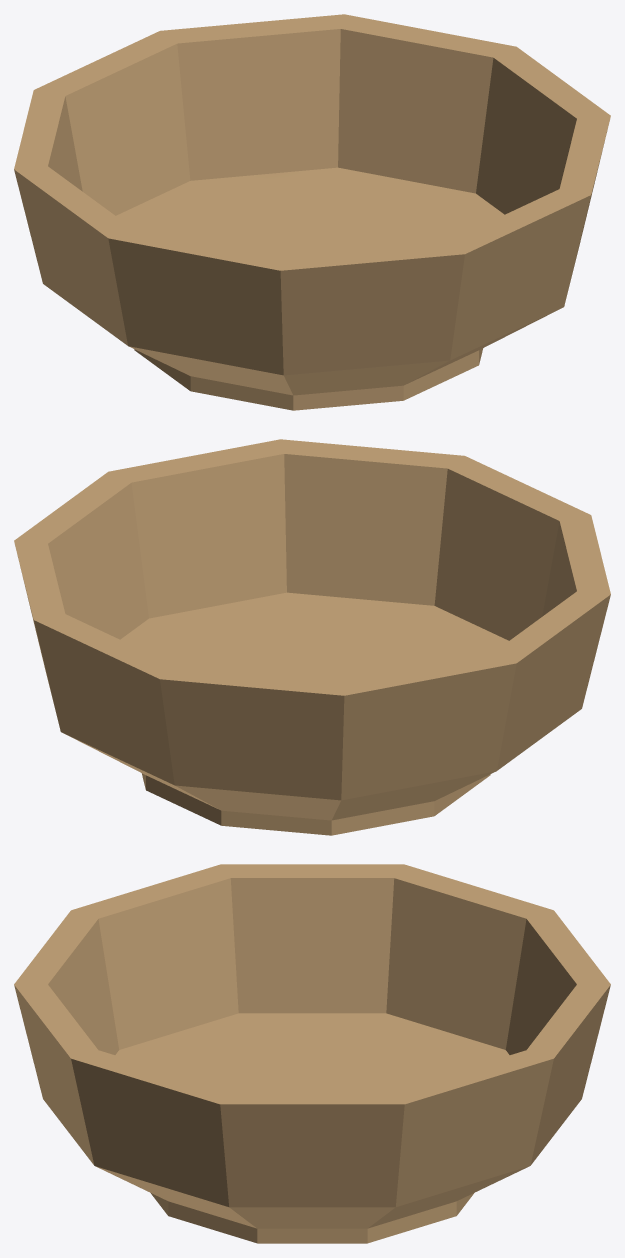
File: Bowl.fbx
The picture shows the model from 3 angles, top to bottom: view 1: azimuth 30°, elevation 25°; view 2: azimuth 150°, elevation 25°; view 3: azimuth 270°, elevation 25°; orthographic projection. The views are drawn at different scales.
Parts seen in each view (by area): view 1: Talerz.001; view 2: Talerz.001; view 3: Talerz.001.
Boxes of the visible parts, x1,y1,x2,y2 form: Talerz.001: (14, 14, 610, 410); Talerz.001: (14, 439, 610, 835); Talerz.001: (14, 864, 610, 1243).
Size of the model in its own units: 35.5 by 12.93 by 37.33.
1 material, 1 textured.
